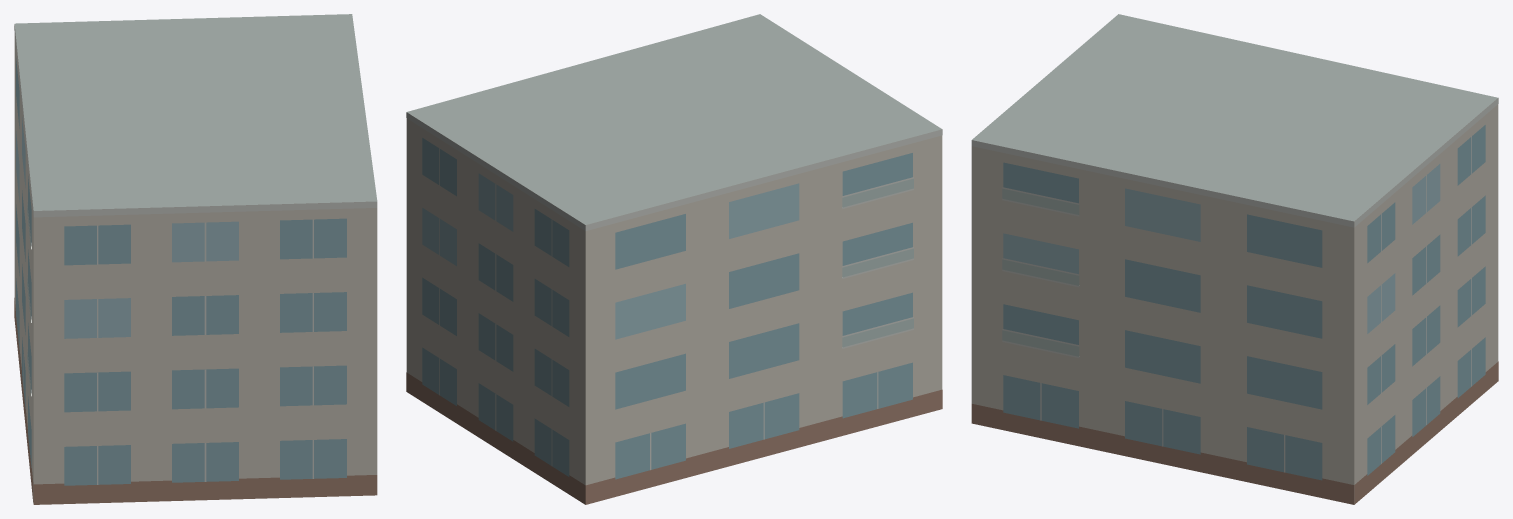
The model's file is survey-upis-32816093.glb.
3 views of the same model, side by side, from view 1: azimuth 30°, elevation 25°; view 2: azimuth 150°, elevation 25°; view 3: azimuth 270°, elevation 25° (orthographic). The views are drawn at different scales.
Visible parts, largest first — view 1: survey-upis-32816093.tmp; view 2: survey-upis-32816093.tmp; view 3: survey-upis-32816093.tmp.
Boxes of the visible parts, left/top/right/bottom form: survey-upis-32816093.tmp: left=14, top=14, right=377, bottom=504; survey-upis-32816093.tmp: left=406, top=14, right=942, bottom=504; survey-upis-32816093.tmp: left=971, top=14, right=1498, bottom=504.
Bounding box in the file's own units: 17.67 × 11.25 × 18.96.
